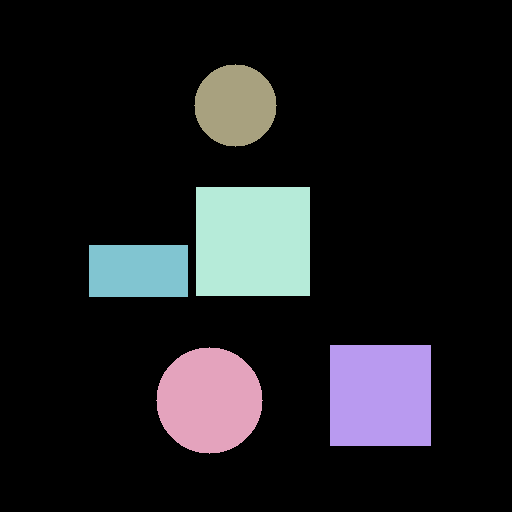circle: (156, 347, 262, 453), (194, 64, 276, 146)
rectangle: (89, 245, 187, 296)
square: (196, 187, 309, 295), (330, 345, 430, 445)
